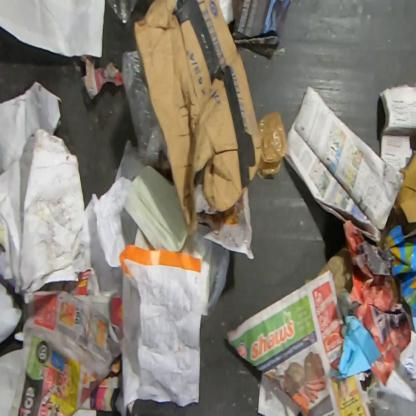cardboard: (131, 0, 263, 239), (232, 0, 292, 62), (316, 244, 356, 296), (392, 151, 415, 224)
rigid_plastic: (256, 110, 287, 180)
soft_plastic: (120, 49, 166, 167), (190, 223, 231, 322), (365, 386, 403, 415), (106, 0, 137, 24)
